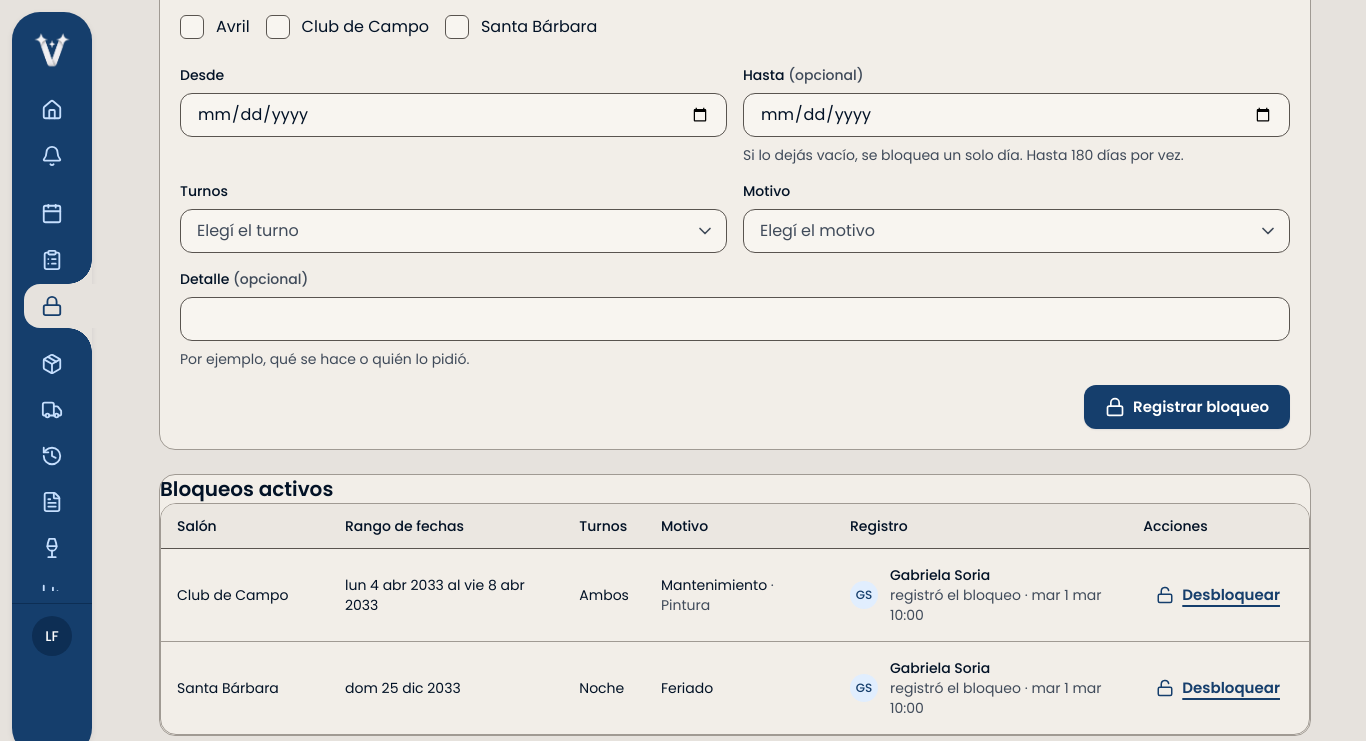
Test: UI-21 · bloqueo de unidades › desbloquear pide confirmación, desbloquea y saca el bloqueo de la lista
This screenshot has width=1366, height=741.
(page scrolled)
Click the button "Desbloquear" in the row of "lun 4 abr 2033 al vie 8 abr 2033": (1218,595) 1143,577 -> 1293,613
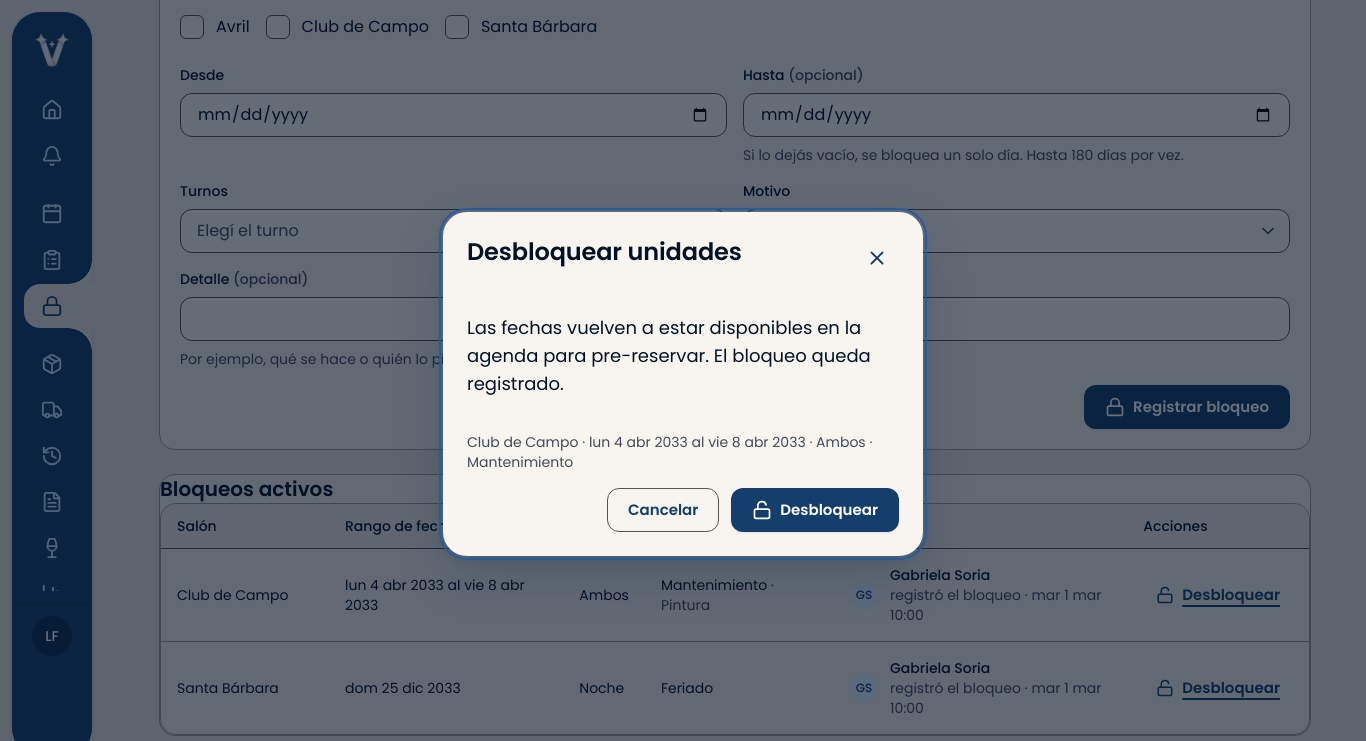
Now the dialog "Desbloquear unidades" shows "Las fechas vuelven a estar disponibles en la agenda para pre-reservar.", box 467,315 -> 871,396
Now the dialog "Desbloquear unidades" shows "Club de Campo", box 467,432 -> 578,452
Click the button "Desbloquear": (815,510) 731,488 -> 899,532
(page scrolled)
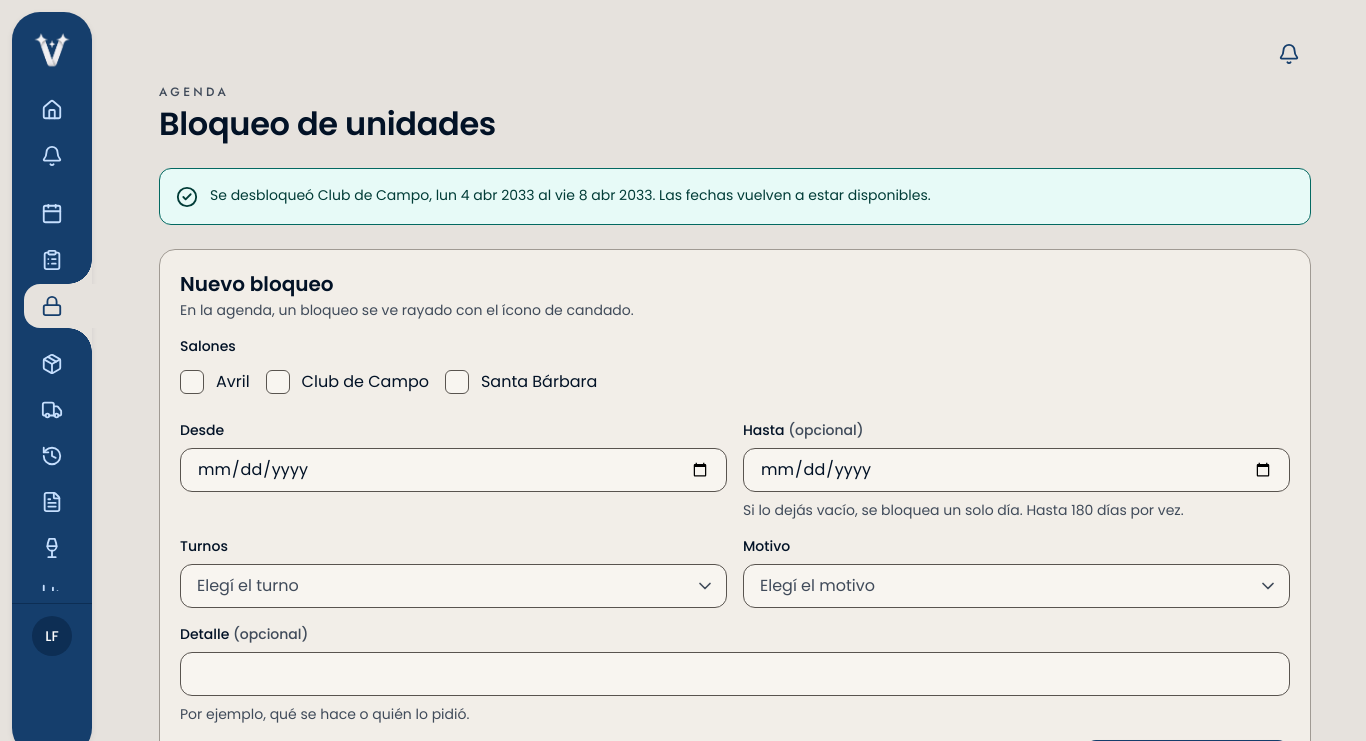
Expected: the text "Mantenimiento · Pintura" is not shown
Now the text "Se desbloqueó Club de Campo" is shown, box 210,185 -> 931,205
Now the dialog is gone
